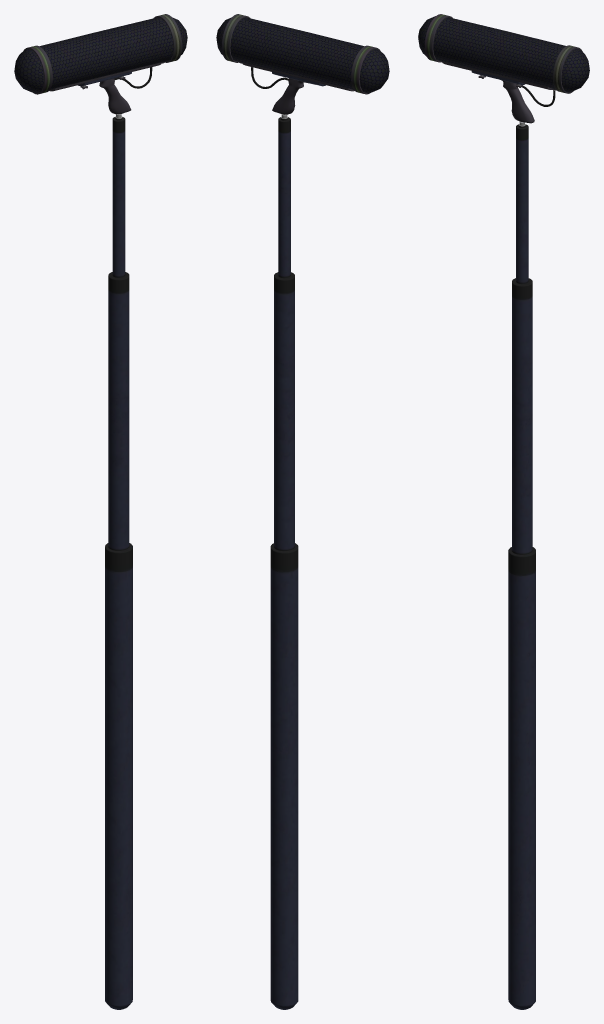
Rendered from microfone-boom.glb.
3 views of the same model, side by side, from view 1: azimuth 30°, elevation 25°; view 2: azimuth 150°, elevation 25°; view 3: azimuth 330°, elevation 25° (orthographic).
Parts seen in each view (by area): view 1: pole.001_main material_0; view 2: pole.001_main material_0; view 3: pole.001_main material_0.
Boxes of the visible parts, x1,y1,x2,y2 form: pole.001_main material_0: [14, 14, 187, 1009]; pole.001_main material_0: [216, 14, 389, 1009]; pole.001_main material_0: [418, 14, 589, 1009].
Size of the model in its own units: 471 by 2633 by 117.
1 material, 1 textured.
